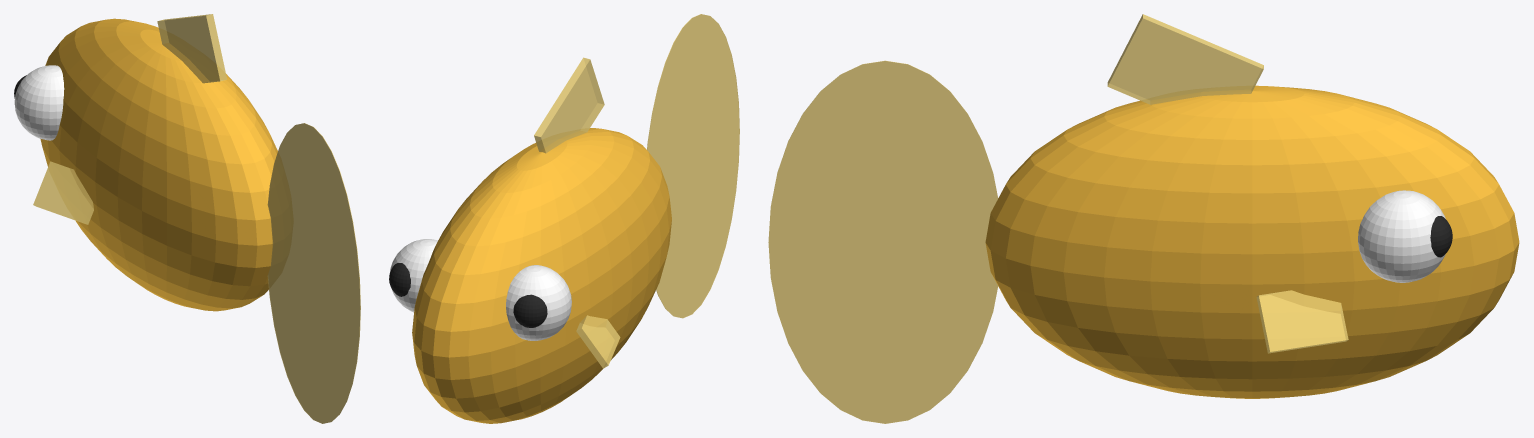
File: guppy.glb
The picture shows the model from 3 angles, left to right: view 1: azimuth 30°, elevation 25°; view 2: azimuth 150°, elevation 25°; view 3: azimuth 270°, elevation 25°; orthographic projection. The views are drawn at different scales.
Visible parts, largest first — view 1: Fish_Body, Tail_Fin, Dorsal_Fin, Eye_Left, Pectoral_Fin_Left; view 2: Fish_Body, Tail_Fin, Dorsal_Fin, Eye_Left, Eye_Right, Pectoral_Fin_Left, Pupil_Left, Pupil_Right; view 3: Fish_Body, Tail_Fin, Dorsal_Fin, Eye_Right, Pectoral_Fin_Right, Pupil_Right.
Boxes of the visible parts, box(x1,y1,x2,y2) form: Fish_Body: box(40, 18, 277, 311); Tail_Fin: box(267, 123, 360, 423); Dorsal_Fin: box(157, 14, 227, 83); Eye_Left: box(14, 65, 64, 140); Pectoral_Fin_Left: box(33, 161, 93, 224); Fish_Body: box(412, 128, 671, 423); Tail_Fin: box(647, 14, 739, 318); Dorsal_Fin: box(534, 57, 604, 153); Eye_Left: box(506, 265, 571, 340); Eye_Right: box(390, 239, 437, 312); Pectoral_Fin_Left: box(576, 315, 620, 368); Pupil_Left: box(513, 294, 547, 327); Pupil_Right: box(389, 263, 410, 296); Fish_Body: box(985, 85, 1519, 398); Tail_Fin: box(768, 60, 998, 423); Dorsal_Fin: box(1107, 14, 1263, 104); Eye_Right: box(1358, 190, 1445, 282); Pectoral_Fin_Right: box(1256, 290, 1348, 353); Pupil_Right: box(1430, 216, 1452, 257).
Bounding box in the file's own units: 1.7 × 2.7 × 4.5.
